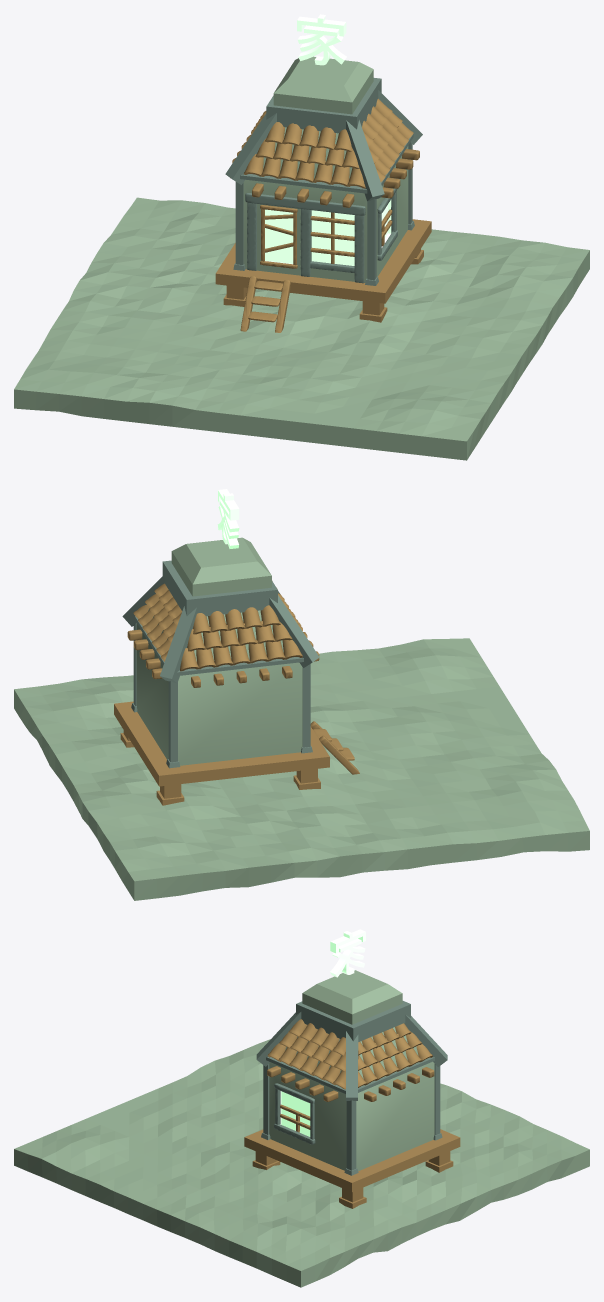
File: PortfolioWebsite3JSnew.glb
3 renders of one model, top to bottom at view 1: azimuth 30°, elevation 25°; view 2: azimuth 150°, elevation 25°; view 3: azimuth 270°, elevation 25°, orthographic. The views are drawn at different scales.
Visible parts, largest first — view 1: Land, Cube.5 (×2), Cube, Cube.15, TextExtrude, LeftWindow, Cube.11, WindowBox, Cube.14, Cube.10, Cube.6, Cube.9 (+3 smaller); view 2: Land, Cube.5, Cube, Cube.15, Cube.13, Cube.14, TextExtrude, Cube.10, Cube.8, Cube.9; view 3: Land, Cube.5, Cube, Cube.15, TextExtrude, Cube.10, Cube.7, Cube.12, RightWindow, Cube.13, Cube.11, Cube.8 (+1 smaller).
Boxes of the visible parts, <box> form: Land: <box>14,197,589,460</box>; Cube.5 (×2): <box>243,56,408,282</box>; Cube: <box>215,219,431,303</box>; Cube.15: <box>266,78,381,133</box>; TextExtrude: <box>297,14,346,65</box>; LeftWindow: <box>311,210,354,265</box>; Cube.11: <box>346,120,384,201</box>; WindowBox: <box>265,209,293,264</box>; Cube.14: <box>225,113,276,184</box>; Cube.10: <box>240,134,413,193</box>; Cube.6: <box>365,198,378,285</box>; Cube.9: <box>233,182,245,270</box>; Land: <box>14,638,589,900</box>; Cube.5: <box>136,537,302,765</box>; Cube: <box>114,701,329,786</box>; Cube.15: <box>162,560,277,616</box>; Cube.13: <box>160,606,196,683</box>; Cube.14: <box>269,595,319,667</box>; TextExtrude: <box>217,489,239,548</box>; Cube.10: <box>135,616,303,675</box>; Cube.8: <box>166,681,180,768</box>; Cube.9: <box>301,664,312,753</box>; Land: <box>14,1039,589,1287</box>; Cube.5: <box>269,970,434,1170</box>; Cube: <box>244,1129,460,1191</box>; Cube.15: <box>296,1001,410,1041</box>; TextExtrude: <box>330,929,365,977</box>; Cube.10: <box>266,1057,434,1093</box>; Cube.7: <box>344,1100,358,1175</box>; Cube.12: <box>346,1031,358,1100</box>; RightWindow: <box>280,1091,310,1136</box>; Cube.13: <box>404,1015,447,1066</box>; Cube.11: <box>256,1012,301,1066</box>; Cube.8: <box>433,1064,442,1140</box>.
Bounding box in the file's own units: 566 × 274 × 566.
